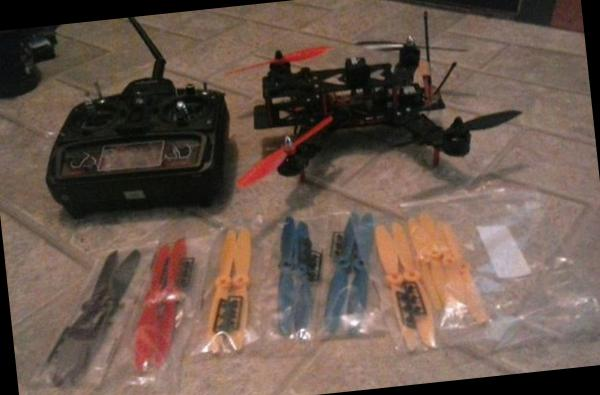drone: (205, 13, 532, 209)
